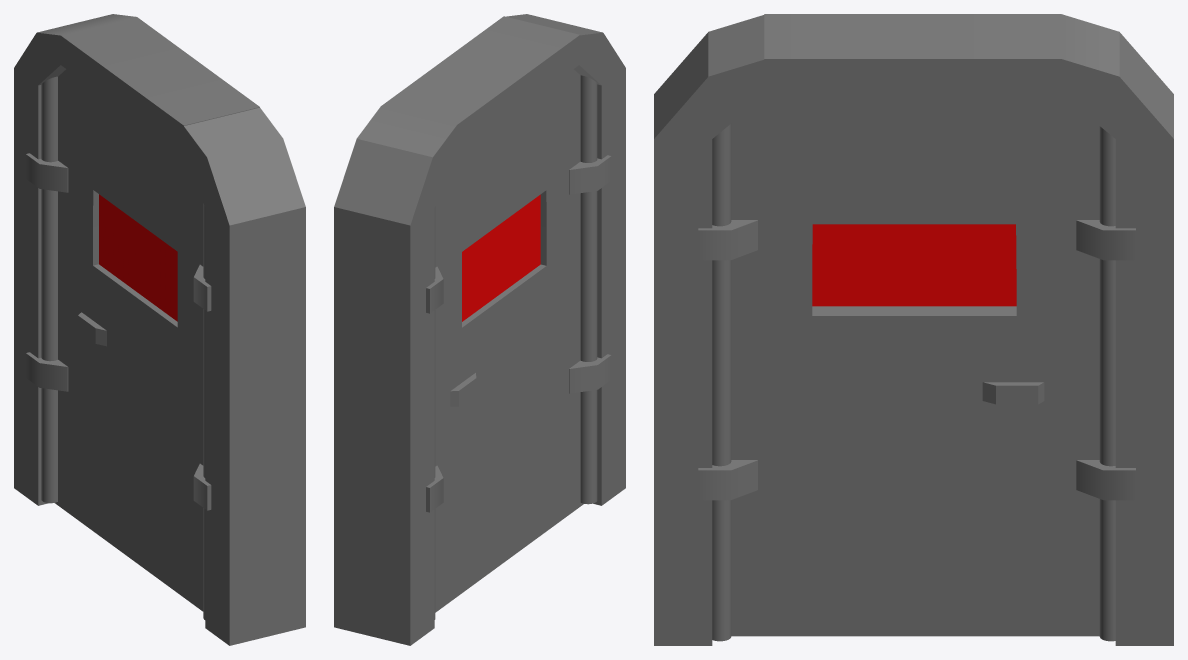
The model's file is Dörr labb.fbx.
3 views of the same model, side by side, from view 1: azimuth 30°, elevation 25°; view 2: azimuth 150°, elevation 25°; view 3: azimuth 270°, elevation 25° (orthographic). The views are drawn at different scales.
Visible parts, largest first — view 1: polySurface4 (×2); view 2: polySurface4 (×2); view 3: polySurface4 (×2).
Boxes of the visible parts, left/top/right/bottom form: polySurface4 (×2): left=14, top=14, right=305, bottom=645; polySurface4 (×2): left=334, top=14, right=625, bottom=645; polySurface4 (×2): left=654, top=14, right=1173, bottom=645.
Bounding box in the file's own units: 0.653 × 3.61 × 2.9.
